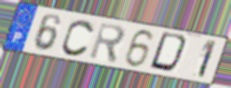1: (196, 39, 218, 81)
6: (122, 28, 156, 69), (32, 13, 63, 53)
C: (60, 18, 97, 58)
D: (147, 31, 191, 75)
R: (88, 21, 127, 65)
